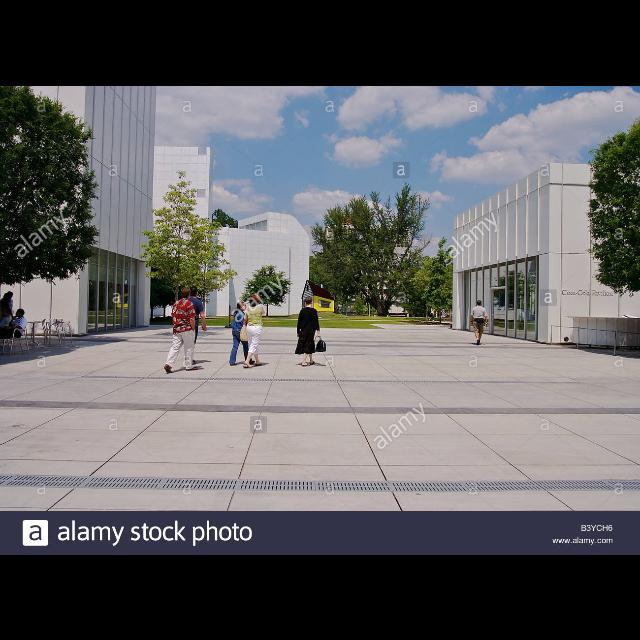head: (182, 286, 192, 300), (250, 294, 260, 306), (189, 286, 199, 296), (237, 301, 247, 311), (16, 308, 26, 316), (306, 295, 314, 305), (5, 291, 12, 299), (6, 292, 12, 300), (478, 300, 482, 306), (445, 308, 447, 312), (431, 306, 433, 308)
person: (164, 285, 200, 373), (294, 294, 328, 366), (180, 285, 208, 365), (228, 300, 258, 366), (240, 292, 266, 368), (1, 306, 30, 354), (469, 298, 488, 346), (1, 292, 16, 341), (0, 290, 14, 340), (428, 305, 436, 321), (440, 306, 448, 322)
